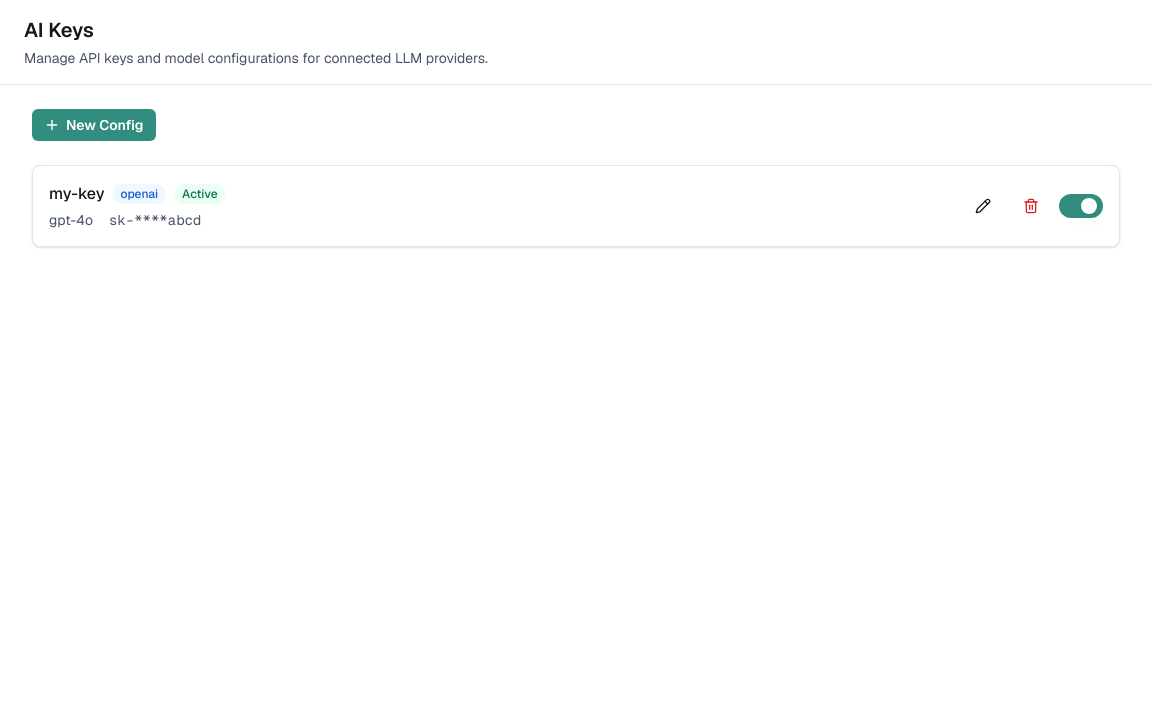
Test: AI Keys page › checks a config name as it is typed
The width and height of the screenshot is (1152, 720).
Click the button named "Edit config my-key" at (983, 206), box [963,192,1003,220]
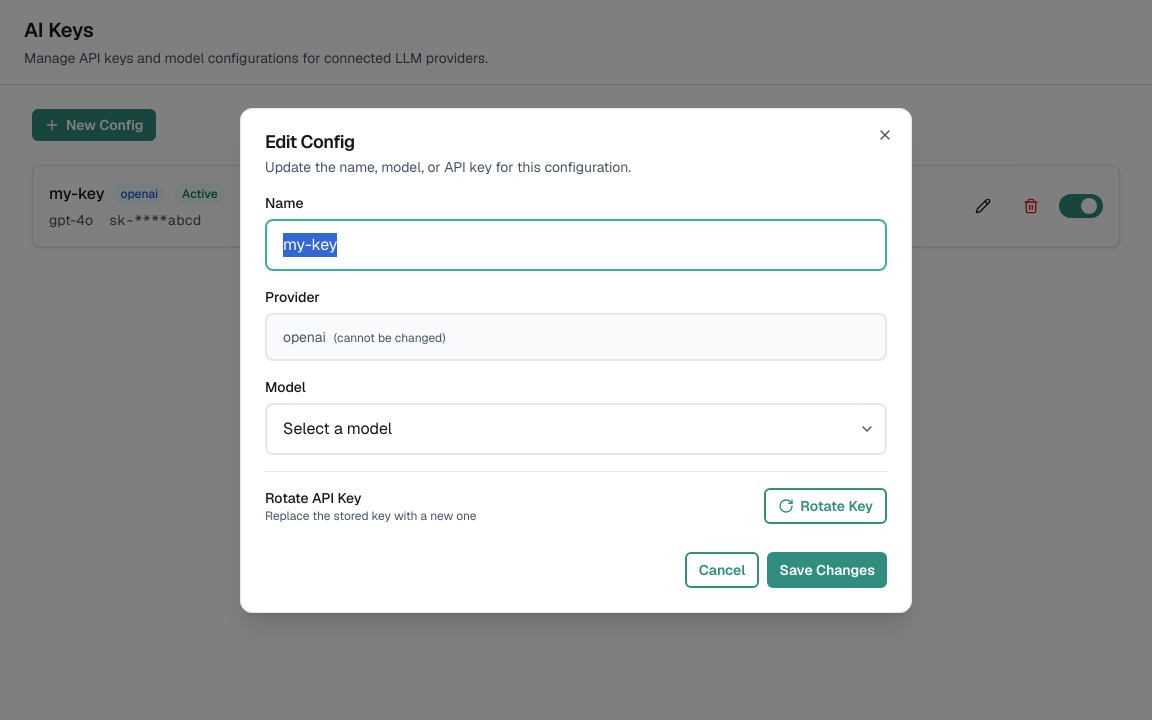
Replace the text in the field labelled "Name" with "bad name!" at (576, 244), box [265,218,887,270]
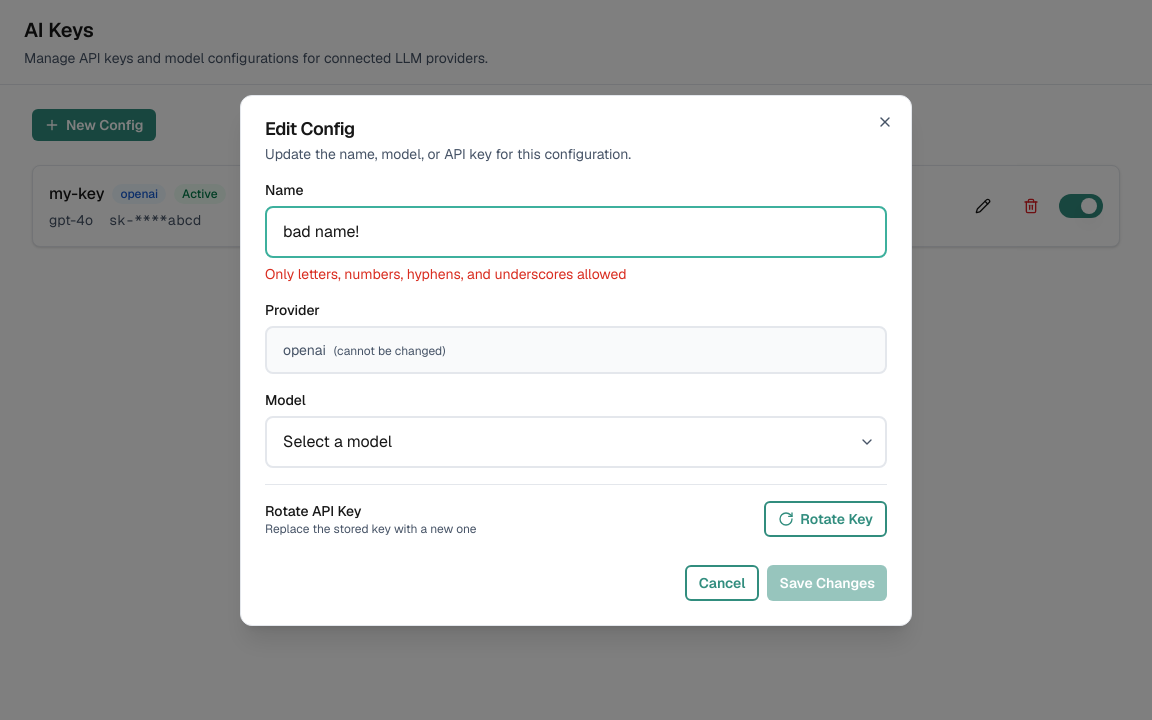
Now the text "Only letters, numbers, hyphens, and underscores allowed" is shown, box [265,264,626,282]
Now the button "Save Changes" is disabled, box [768,564,887,600]
